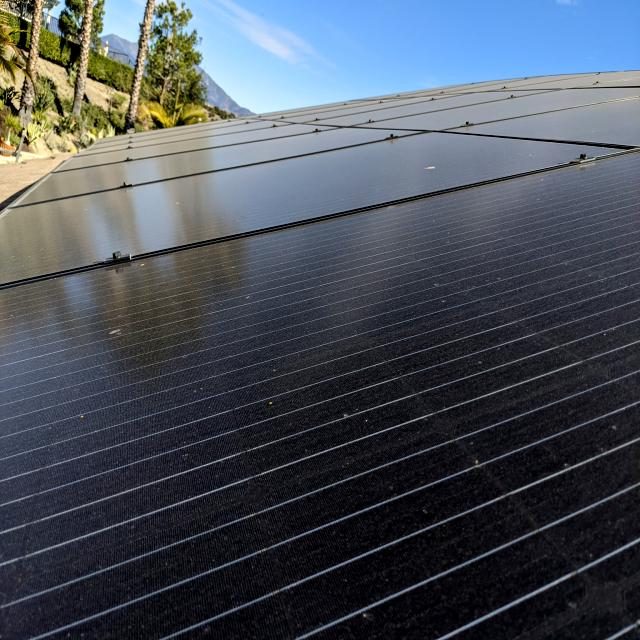dust: (334, 267, 570, 558), (67, 352, 284, 580), (502, 191, 632, 251), (586, 544, 624, 626)
